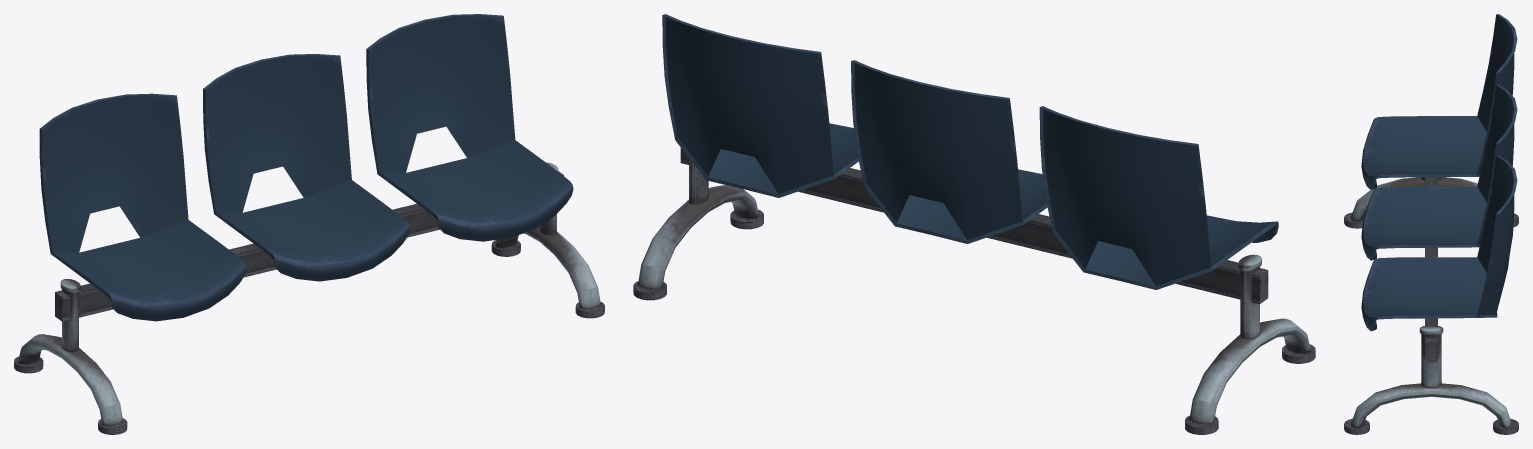
The model's file is PlasticBench.fbx.
The picture shows the model from 3 angles, left to right: view 1: azimuth 30°, elevation 25°; view 2: azimuth 150°, elevation 25°; view 3: azimuth 270°, elevation 25°; orthographic projection. The views are drawn at different scales.
Parts seen in each view (by area): view 1: Cube.002; view 2: Cube.002; view 3: Cube.002.
Part boxes in pixels (x1,y1,x2,y2): Cube.002: (14,14,604,434); Cube.002: (633,14,1315,434); Cube.002: (1344,14,1518,434).
Size of the model in its own units: 841 by 391 by 286.
